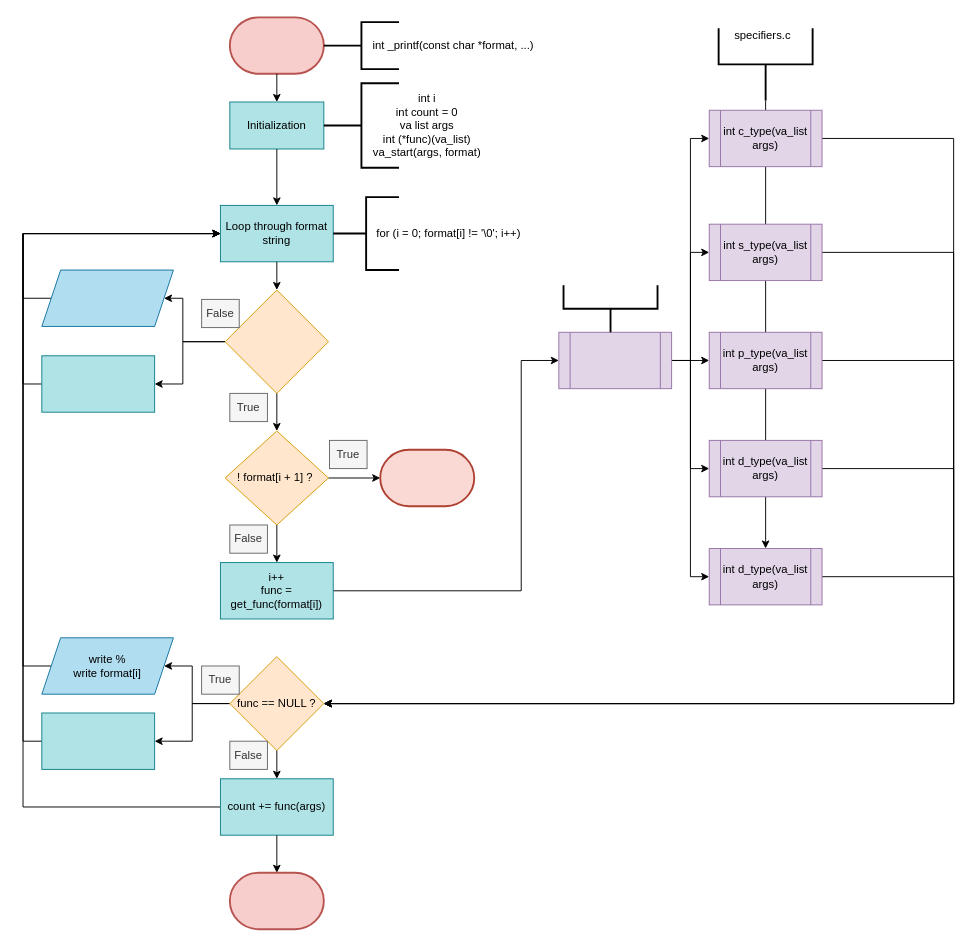
Image size: 978x946. Some labels were removed from this diagram. The shapes that lost their labels are listed below. From the top down, each one's centre as x and y in pixels, then its label:
At point 276,45: "Start".
At point 107,297: "write(1, &format[i], 1)".
At point 610,308: "get_func.c".
At point 276,341: "format[i] == '%' ?".
At point 615,360: "get_func(char c)".
At point 98,383: "count ++".
At point 427,477: "va_end(args) return (-1)".
At point 98,740: "count += 2".
At point 276,900: "va_end(args) return (count)".
